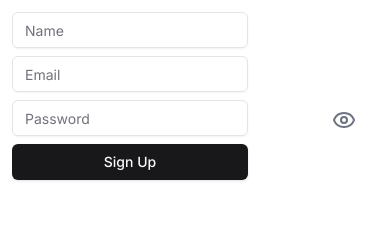
Test: UserForm › displays errors correctly
In the field with placeholder "Name": (130, 30) [12,12,248,48], type "John Doe"
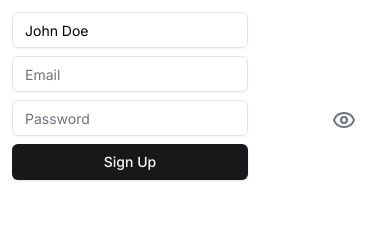
In the field with placeholder "Email": (130, 74) [12,56,248,92], type "john@example.com"
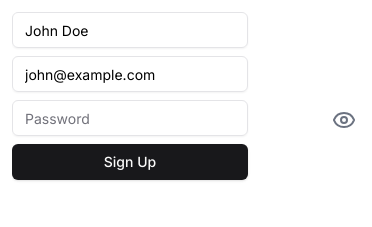
In the password field with placeholder "Password": (130, 118) [12,100,248,136], type "password123"
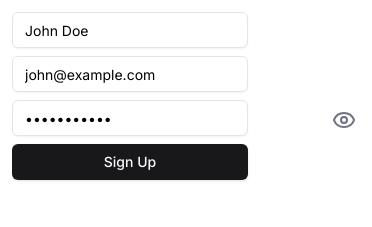
Click the button "Sign Up": (130, 162) [12,144,248,180]
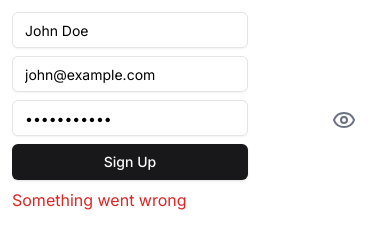
Check: the text "Something went wrong" is shown, box [12,190,187,210]
